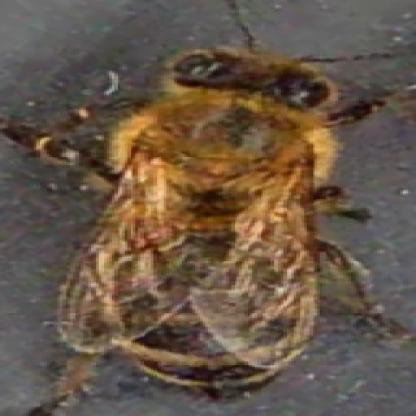bee: (80, 38, 353, 390)
